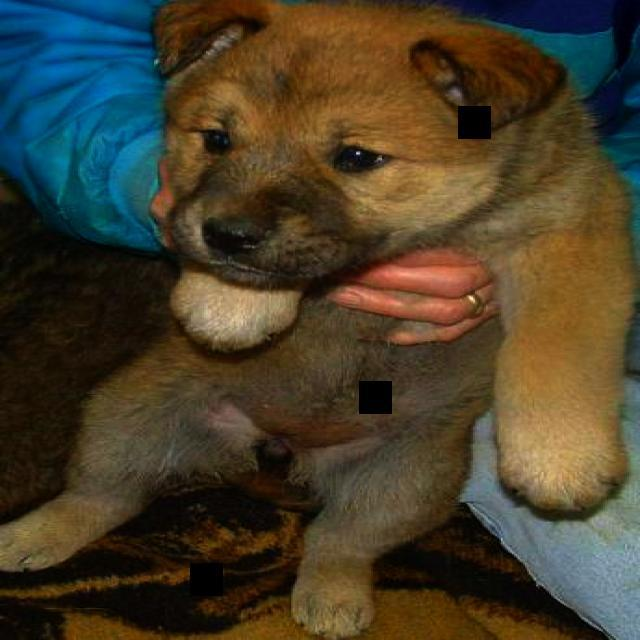puppy-dog: (1, 0, 636, 636)
